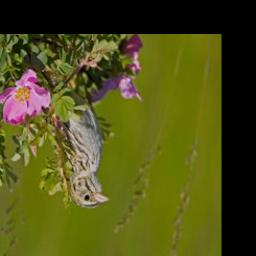Sparrow: (51, 82, 114, 214)
